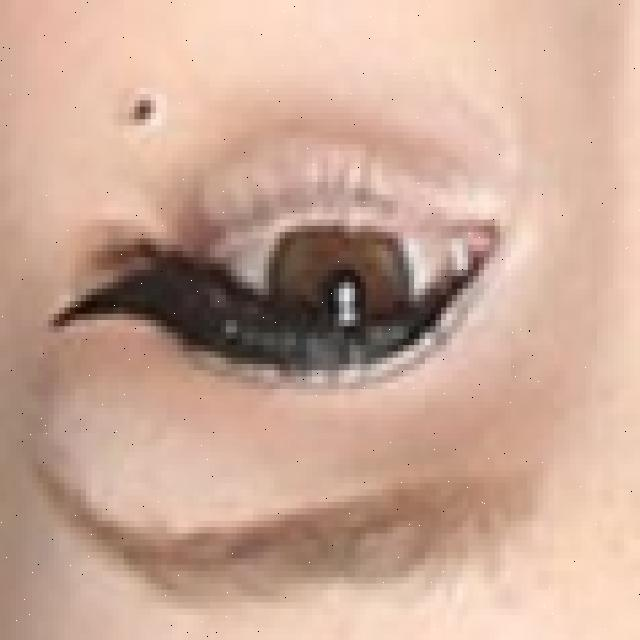Normal: (265, 210, 410, 372)
